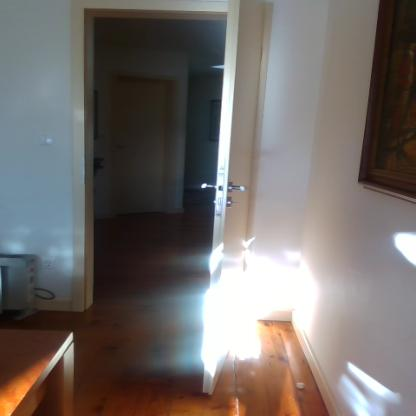open: (73, 0, 278, 391)
